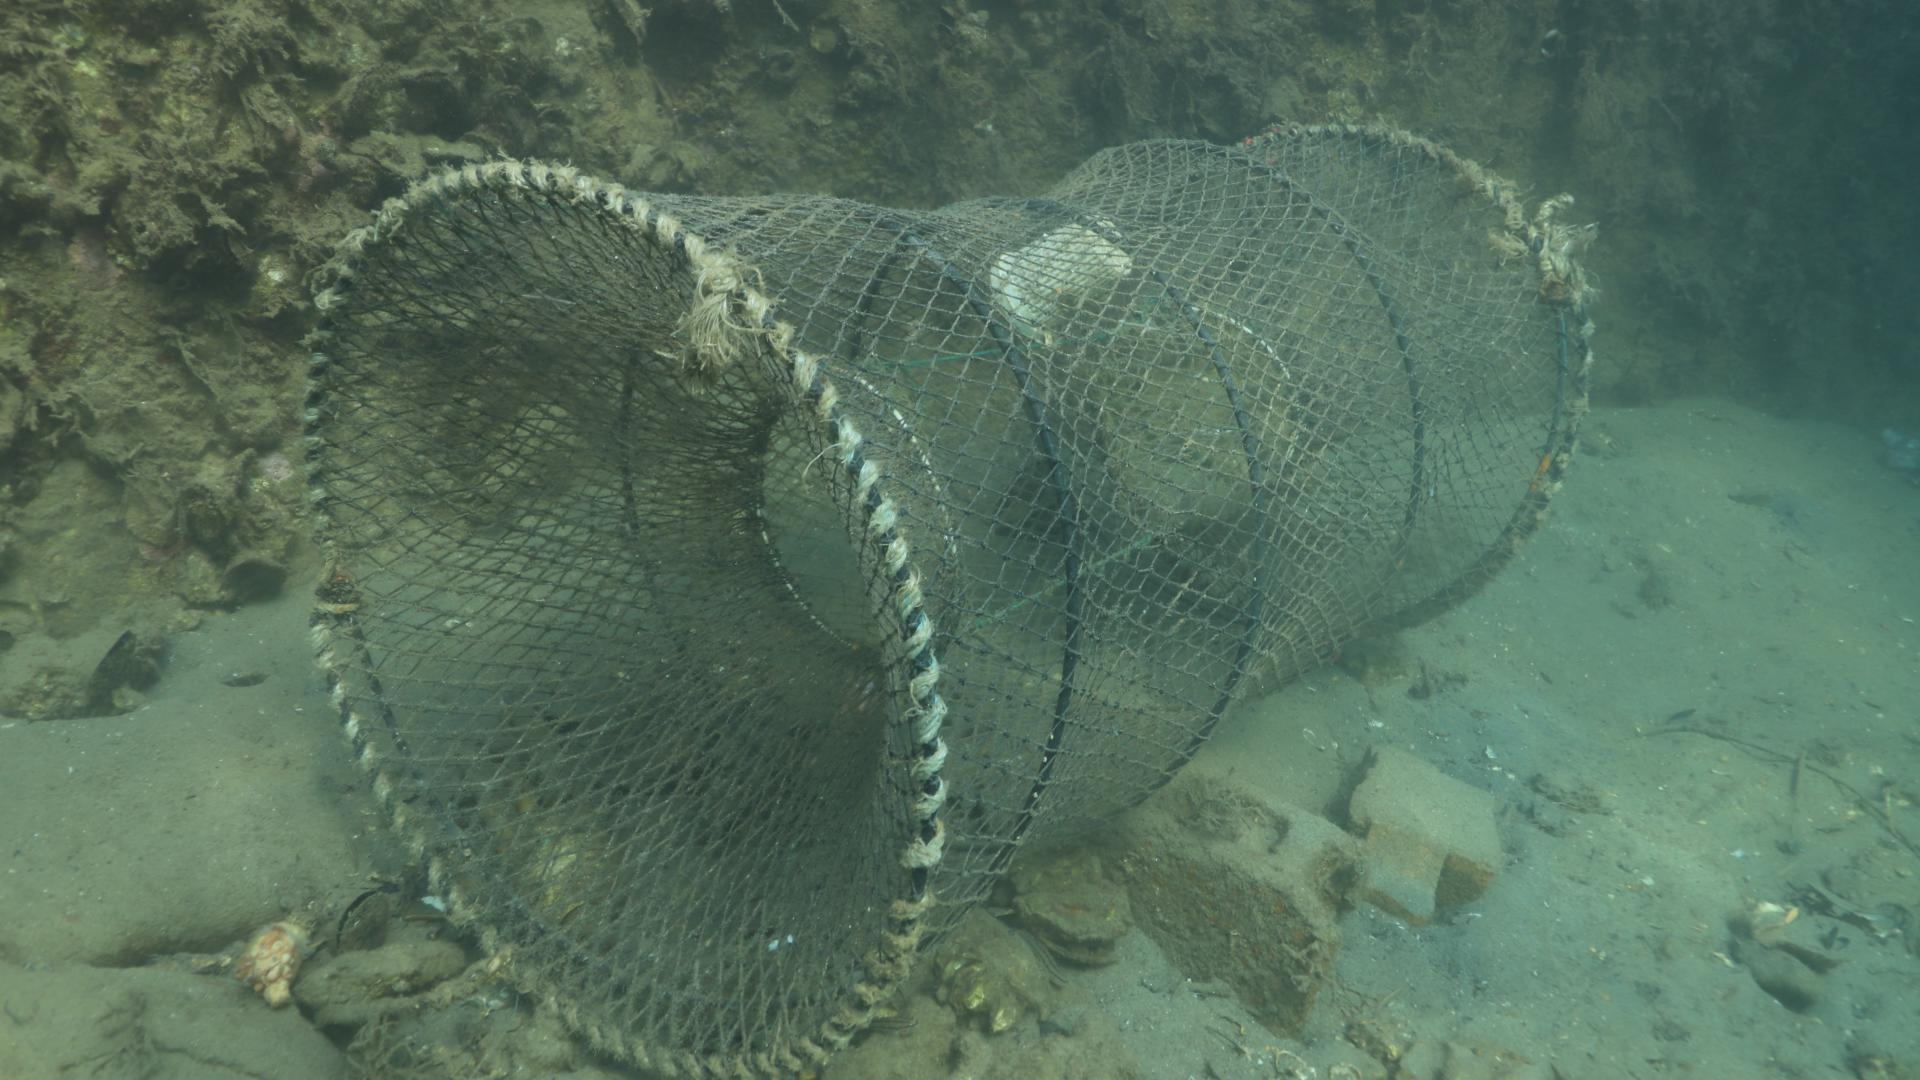spring fish trap: (298, 119, 1596, 1080)
